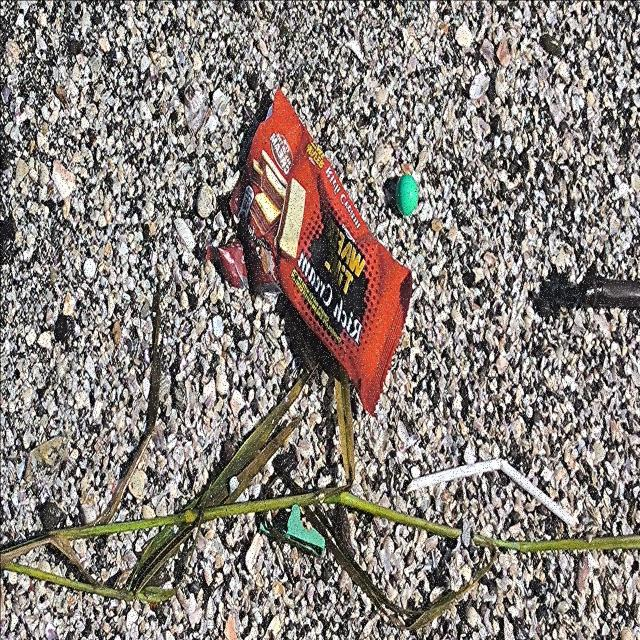plastic_waste: (229, 88, 413, 416), (406, 456, 575, 532)
